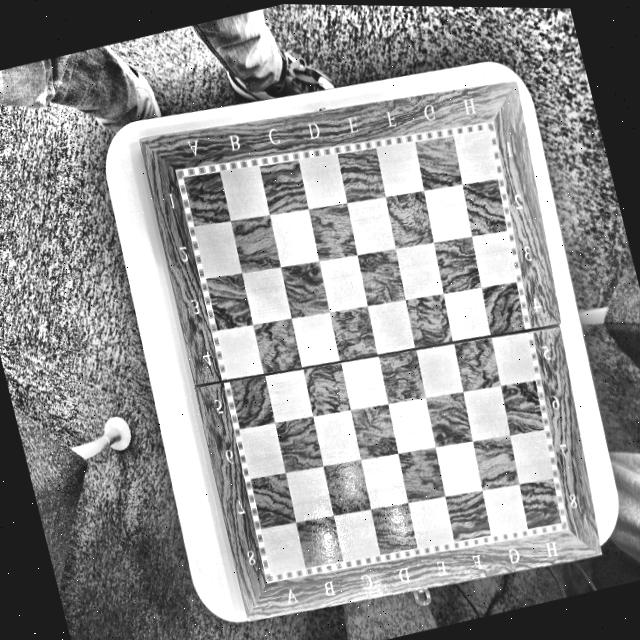chessboard: (173, 120, 567, 585)
p1: (180, 172, 190, 184)
p2: (266, 569, 276, 579)
p3: (555, 517, 563, 528)
p4: (484, 127, 492, 136)
